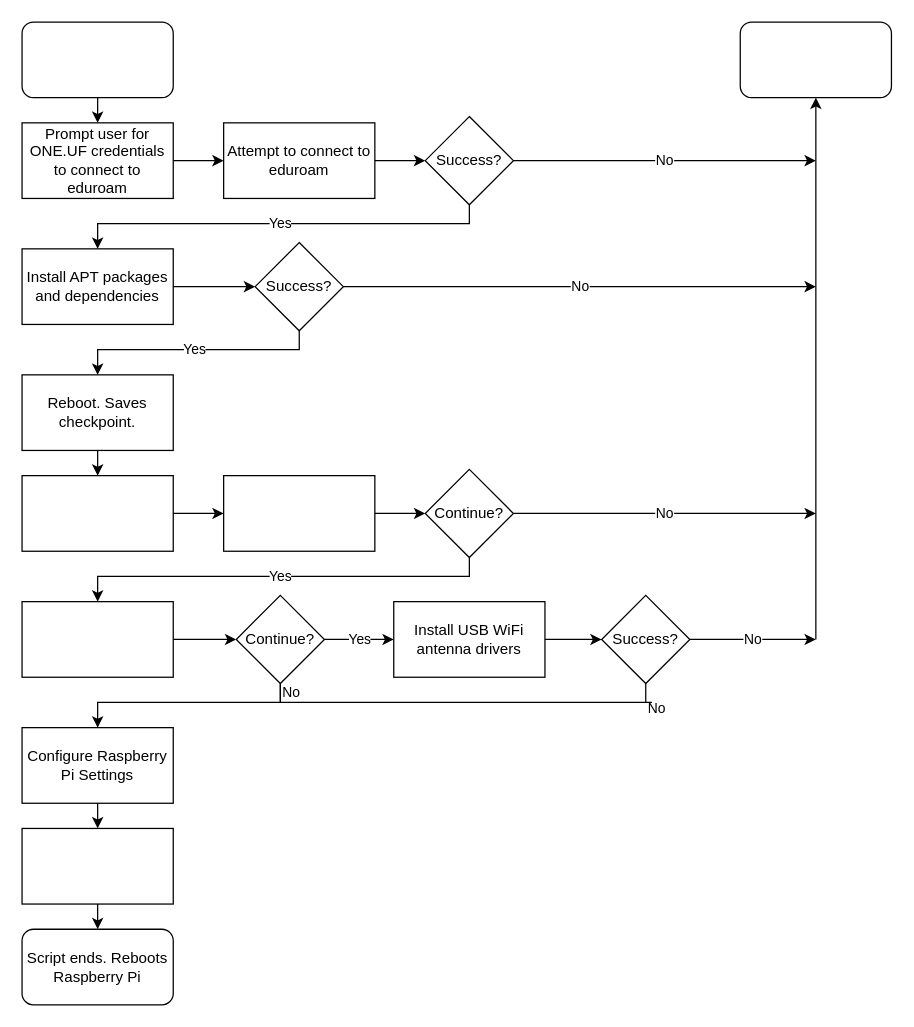
This 914x1027 diagram has some shape labels left out. The shapes that lost their labels are listed below. From the top down, each one's centre as x and y in pixels, then its label:
point (97, 59): Run `bash pi_setup.sh`
point (815, 59): Kill script
point (97, 512): Rerun 'bash pi_setup.sh'
point (298, 512): Prompt user if they want to continue
point (97, 638): Prompt user if they want to install USB WiFi antenna
point (97, 865): Configure Python virtual environment
